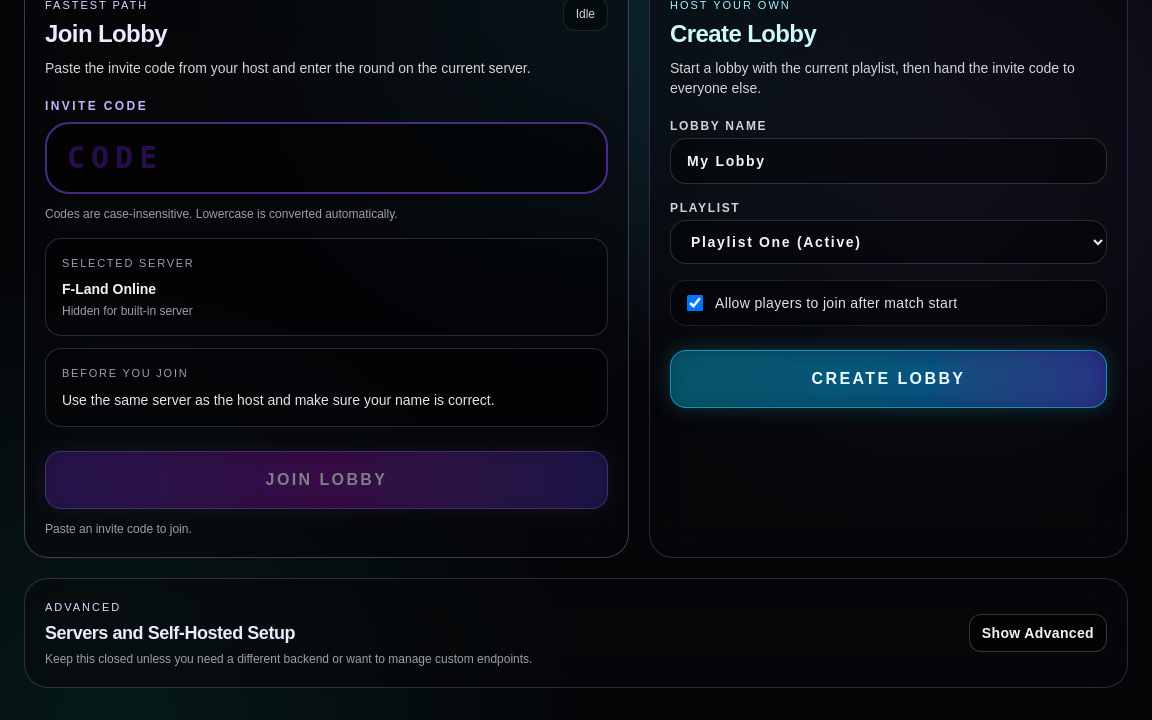
MultiplayerRoute › hides built-in endpoint credentials from the editor
(page scrolled)
Click the button "Show Advanced".
click(1038, 633)  # box [969,614,1107,652]
(page scrolled)
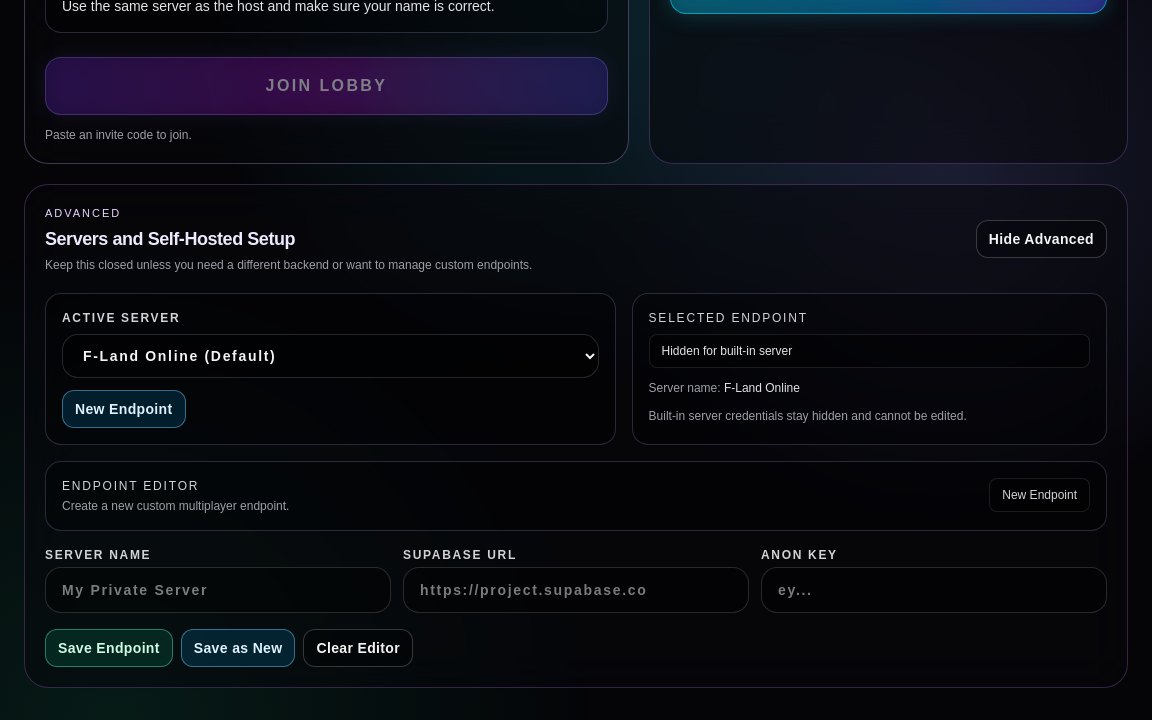
Expected: the text "Built-in server credentials stay hidden and cannot be edited." is shown, [648,409,967,423]
